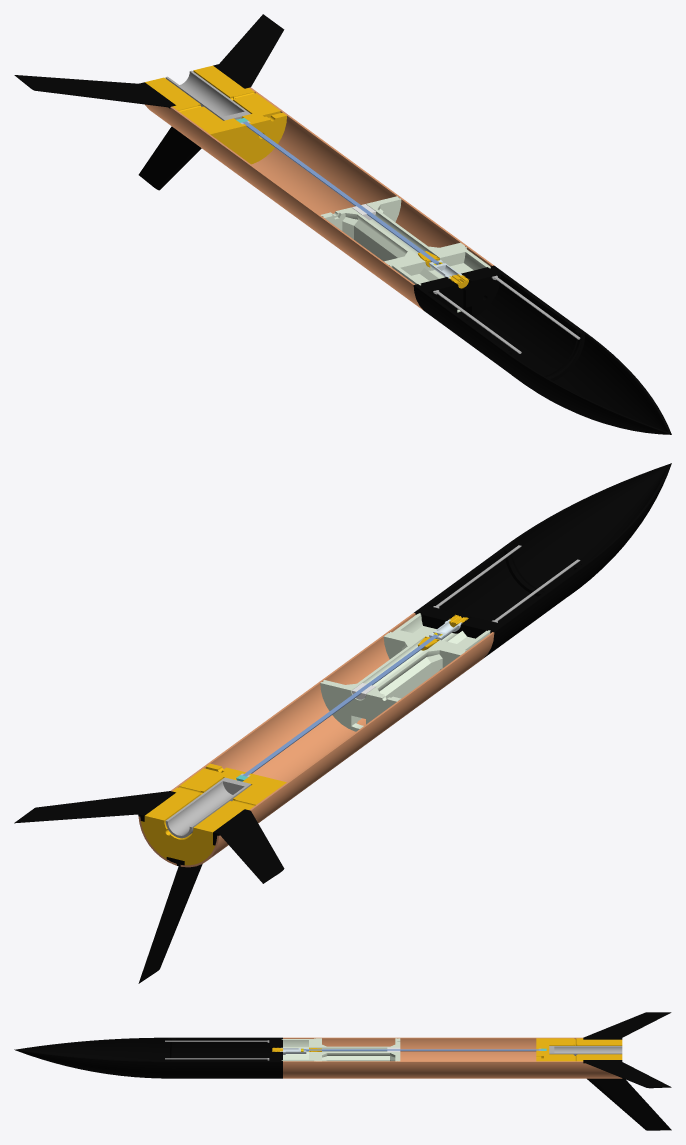
The model's file is assembly - commodore - min section view.glb.
3 renders of one model, top to bottom at view 1: azimuth 30°, elevation 25°; view 2: azimuth 150°, elevation 25°; view 3: azimuth 270°, elevation 25°, orthographic. The views are drawn at different scales.
Parts seen in each view (by area): view 1: фузелаж, електроника_държач, Part 1, дъно, принт пито камера, перо 1 ново, перо 3 ново, перо 2 ново, кейс, шпилка; view 2: фузелаж, Part 1, електроника_държач, принт пито камера, дъно, перо 3 ново, перо 1 ново, перо 2 ново, кейс, шпилка; view 3: фузелаж, електроника_държач, Part 1, принт пито камера, перо 2 ново, дъно, перо 3 ново, перо 1 ново, шпилка, кейс, Ос Ел. 2, Ос Ел. 3.
Part boxes in pixels (bbox=[...]): фузелаж: bbox=[144, 87, 493, 310]; електроника_държач: bbox=[413, 265, 585, 380]; Part 1: bbox=[500, 329, 671, 434]; дъно: bbox=[145, 65, 286, 164]; принт пито камера: bbox=[320, 196, 490, 312]; перо 1 ново: bbox=[14, 75, 175, 108]; перо 3 ново: bbox=[213, 14, 284, 88]; перо 2 ново: bbox=[138, 126, 201, 190]; кейс: bbox=[165, 70, 250, 120]; шпилка: bbox=[242, 121, 439, 264]; фузелаж: bbox=[138, 613, 494, 867]; Part 1: bbox=[501, 463, 671, 594]; електроника_държач: bbox=[414, 544, 586, 657]; принт пито камера: bbox=[320, 613, 490, 731]; дъно: bbox=[141, 763, 286, 865]; перо 3 ново: bbox=[14, 791, 175, 823]; перо 1 ново: bbox=[213, 809, 284, 883]; перо 2 ново: bbox=[138, 857, 202, 983]; кейс: bbox=[165, 777, 251, 838]; шпилка: bbox=[242, 634, 438, 776]; фузелаж: bbox=[283, 1037, 622, 1078]; електроника_държач: bbox=[168, 1037, 282, 1078]; Part 1: bbox=[14, 1037, 175, 1078]; принт пито камера: bbox=[281, 1038, 400, 1061]; перо 2 ново: bbox=[587, 1078, 671, 1130]; дъно: bbox=[536, 1038, 622, 1061]; перо 3 ново: bbox=[583, 1060, 671, 1088]; перо 1 ново: bbox=[583, 1012, 671, 1039]; шпилка: bbox=[303, 1049, 541, 1051]; кейс: bbox=[549, 1046, 622, 1055]; Ос Ел. 2: bbox=[165, 1040, 269, 1042]; Ос Ел. 3: bbox=[165, 1058, 269, 1060].
Size of the model in its own units: 0.3398 by 0.1699 by 1.26.
